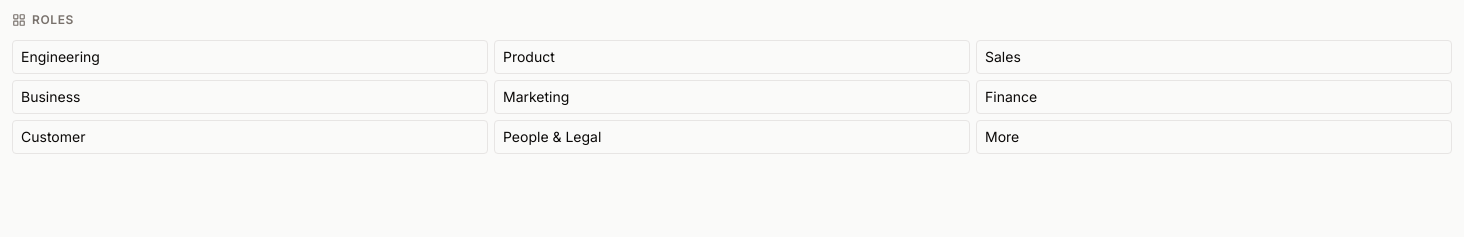
it: RolePicker › clicking a category expands its roles
Click the button "Product" at (529, 56), box top-left (494, 40), bottom-right (970, 74)
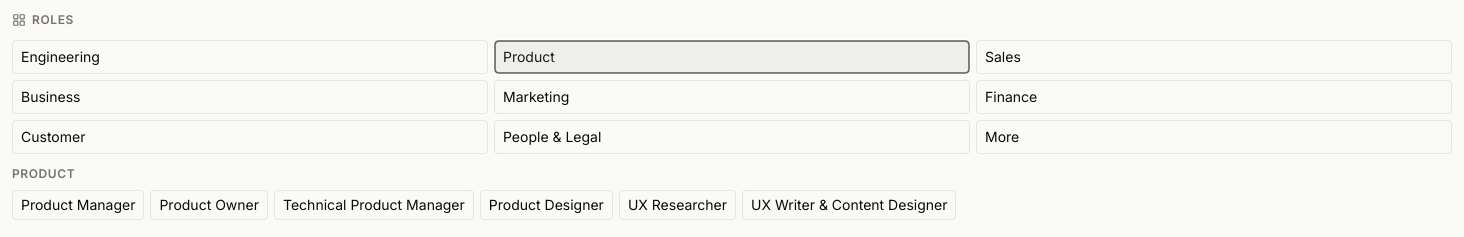
Expected: the button "Product Manager" is shown, top-left (12, 190), bottom-right (144, 220)
Expected: the button "UX Researcher" is shown, top-left (619, 190), bottom-right (736, 220)
